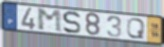3: (106, 15, 123, 38)
4: (20, 7, 37, 31)
8: (85, 12, 101, 37)
M: (36, 8, 64, 34)
Q: (126, 18, 147, 40)
S: (61, 10, 82, 35)
